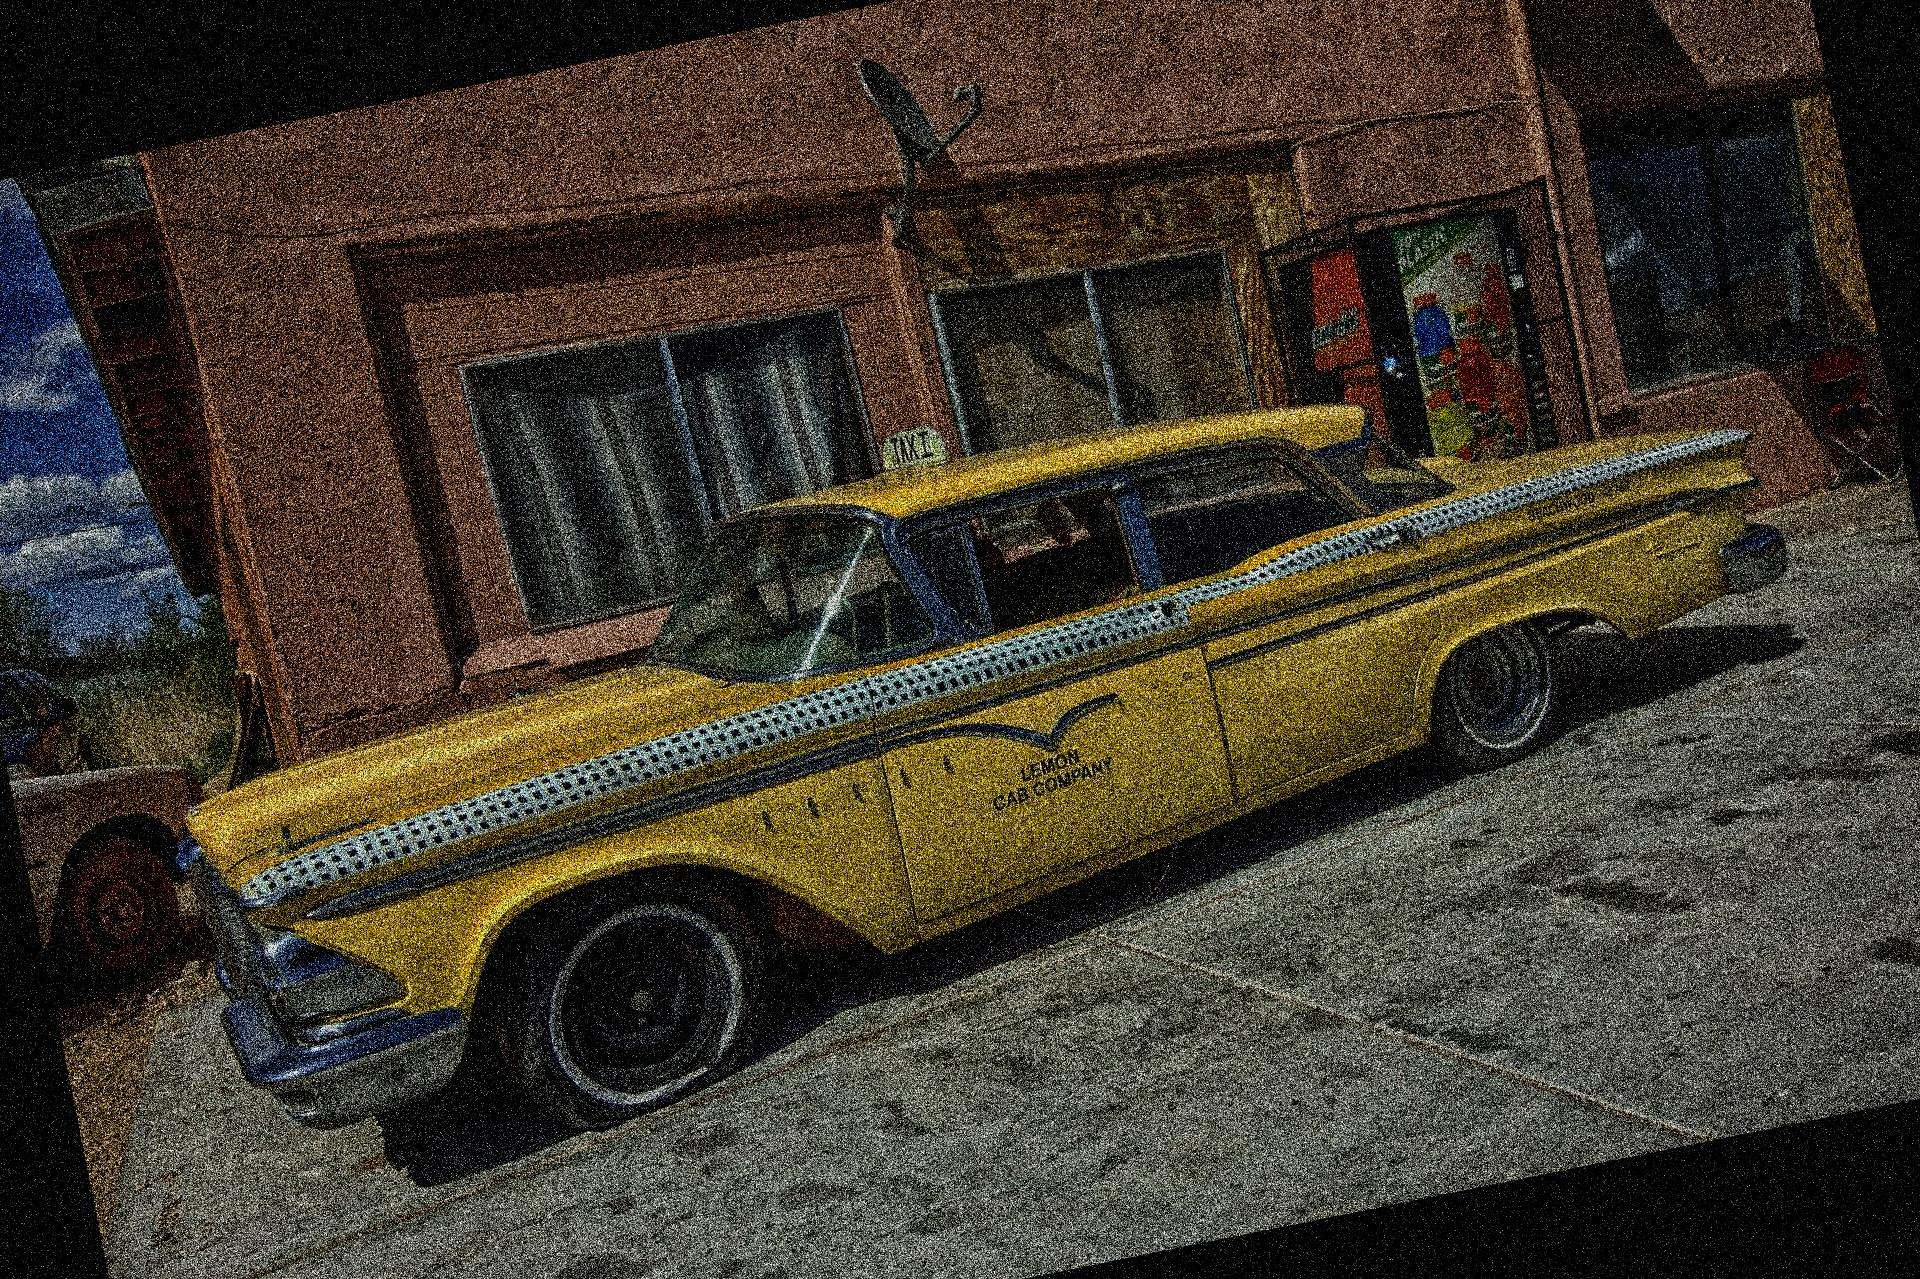taxi: (178, 375, 1782, 1220)
